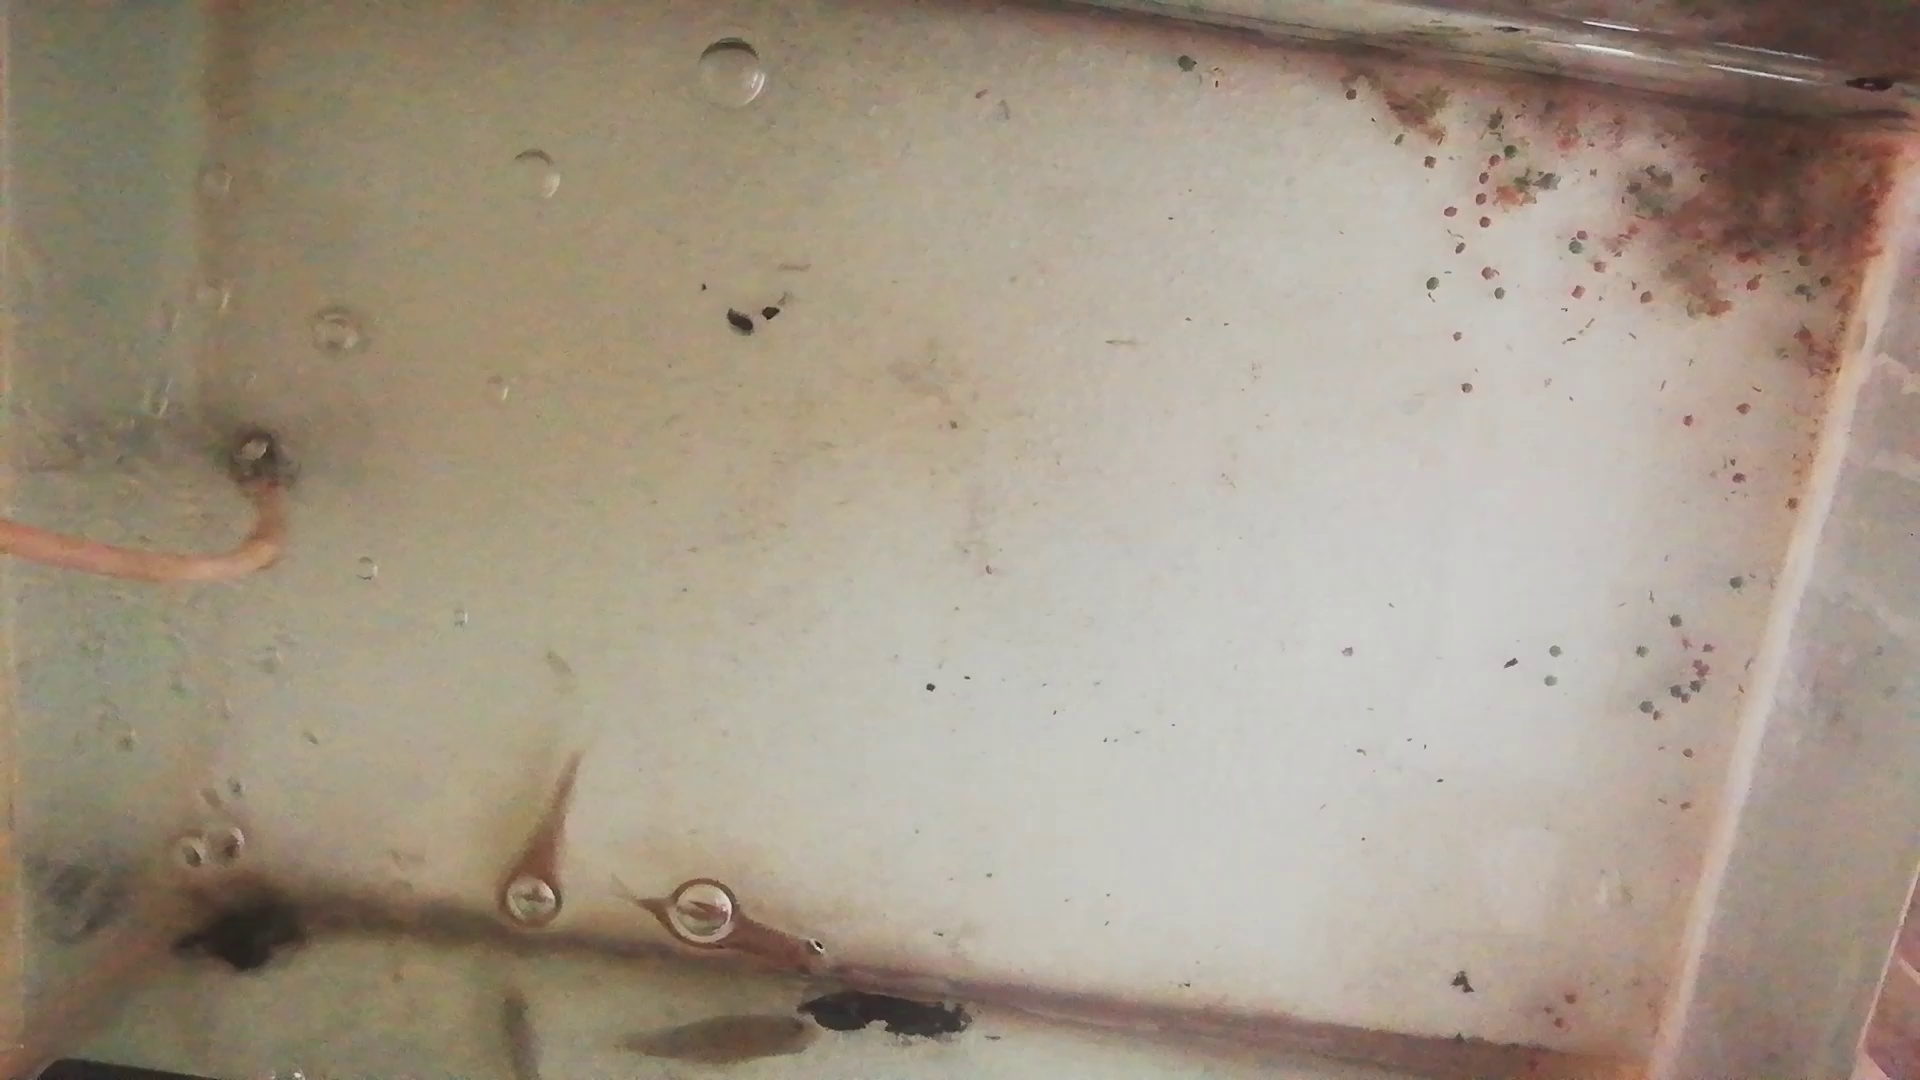fish: (636, 895, 828, 980), (495, 752, 575, 924)
